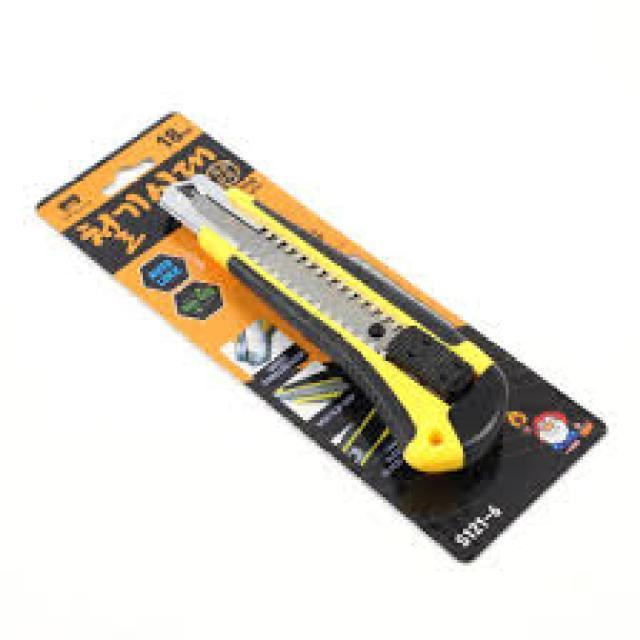cutter: (152, 167, 514, 489)
